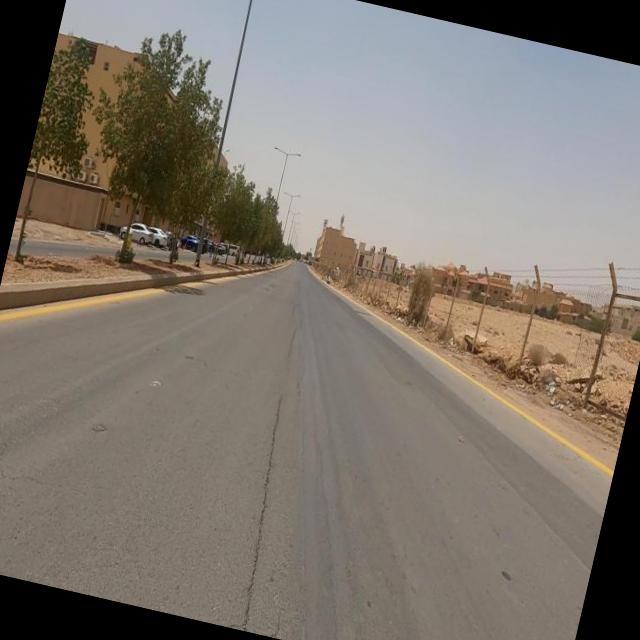debris: (504, 336, 598, 442), (382, 284, 441, 357), (422, 306, 480, 370)
